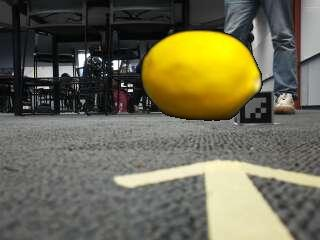lemon: (142, 31, 261, 120)
